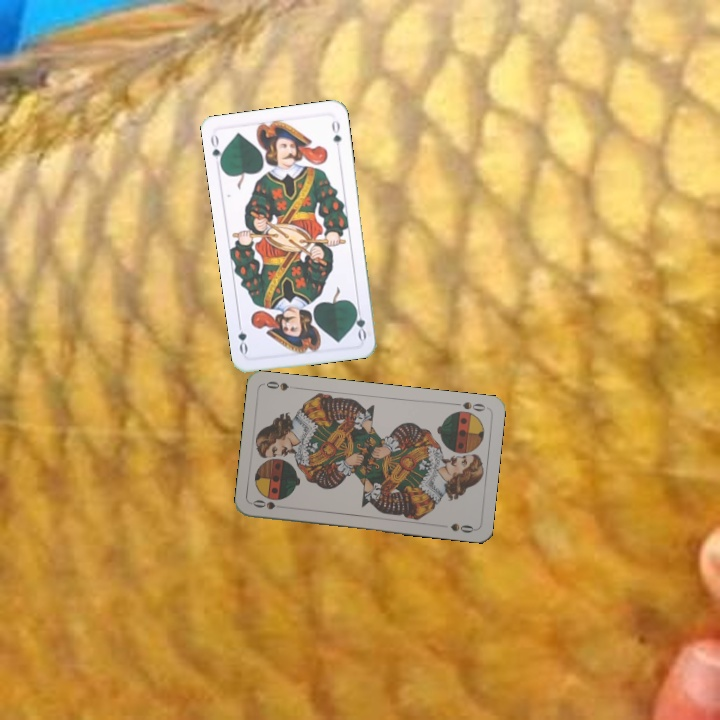GO: (206, 130, 227, 171), (350, 301, 369, 342)
SO: (249, 496, 289, 512), (449, 398, 488, 414)
